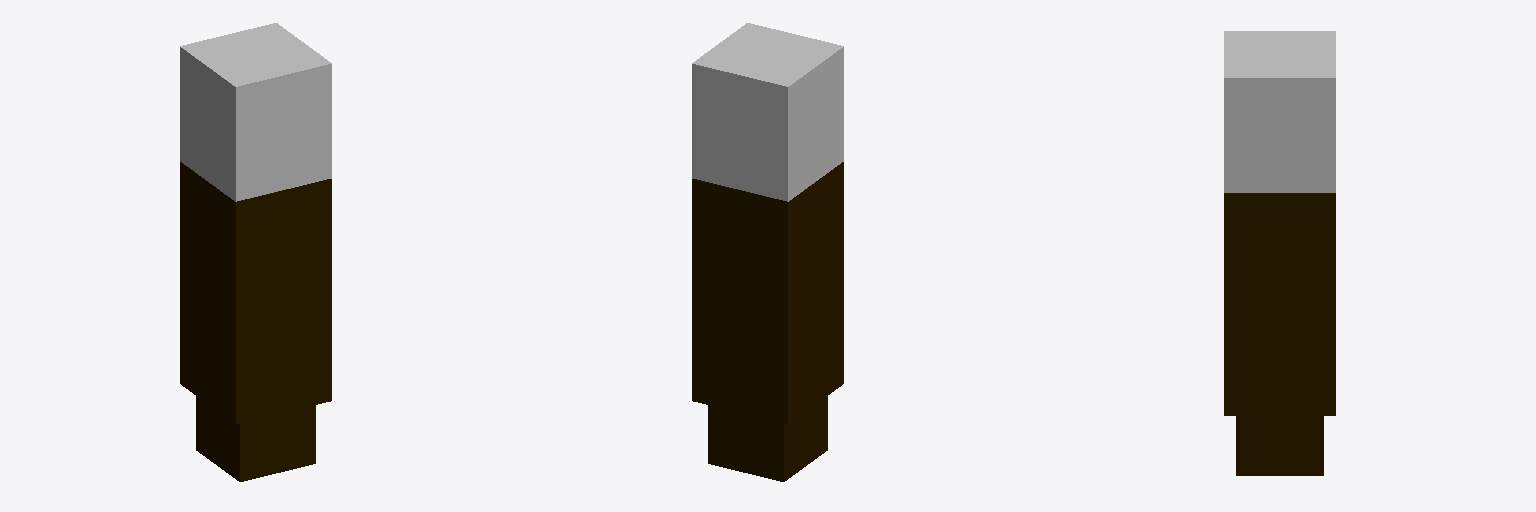
Rendered from arm.obj.
The picture shows the model from 3 angles: view 1: azimuth 30°, elevation 25°; view 2: azimuth 150°, elevation 25°; view 3: azimuth 270°, elevation 25°; orthographic projection.
Parts seen in each view (by area): view 1: Cube.001_Cube.004; view 2: Cube.001_Cube.004; view 3: Cube.001_Cube.004.
Boxes of the visible parts, x1=… form: Cube.001_Cube.004: x1=180, y1=23, x2=331, y2=481; Cube.001_Cube.004: x1=692, y1=23, x2=843, y2=481; Cube.001_Cube.004: x1=1224, y1=31, x2=1335, y2=475.
Size of the model in its own units: 0.1369 by 0.5444 by 0.1369.